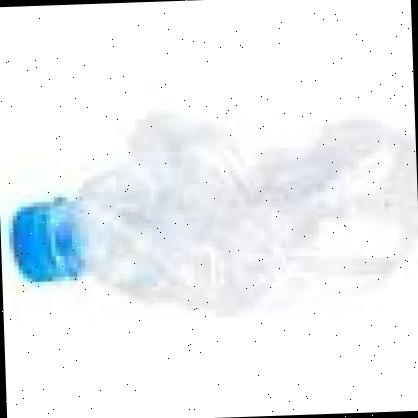bottle: (5, 87, 418, 344)
cap: (6, 198, 66, 292)
